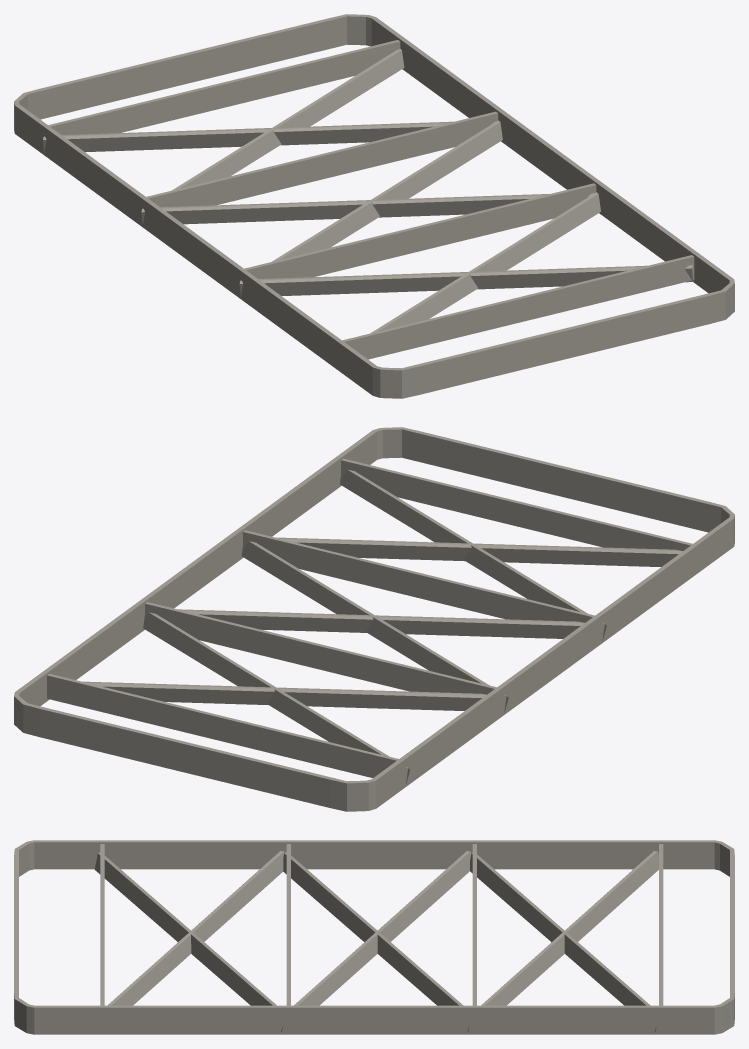
File: metal_frame_02.fbx
3 views of the same model, one above another, from view 1: azimuth 30°, elevation 25°; view 2: azimuth 150°, elevation 25°; view 3: azimuth 270°, elevation 25° (orthographic). The views are drawn at different scales.
Visible parts, largest first — view 1: metal_frame_02; view 2: metal_frame_02; view 3: metal_frame_02.
Boxes of the visible parts, bbox=[...] form: metal_frame_02: bbox=[14, 14, 734, 398]; metal_frame_02: bbox=[14, 427, 734, 811]; metal_frame_02: bbox=[14, 840, 734, 1034].
Size of the model in its own units: 104 by 7.68 by 186.
